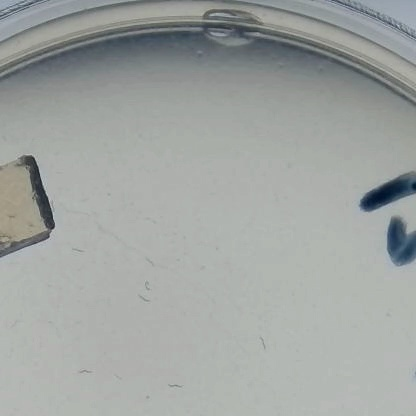worm: (256, 335, 274, 354), (165, 380, 185, 394), (8, 318, 24, 331), (70, 244, 90, 254), (135, 293, 153, 304), (145, 254, 158, 269), (143, 215, 160, 226), (141, 279, 155, 292), (79, 366, 94, 377), (113, 370, 124, 383)
